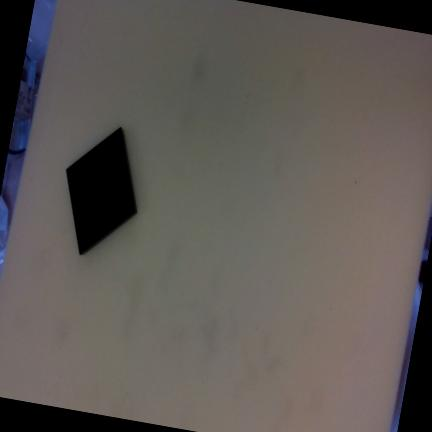tile: (59, 128, 142, 256)
